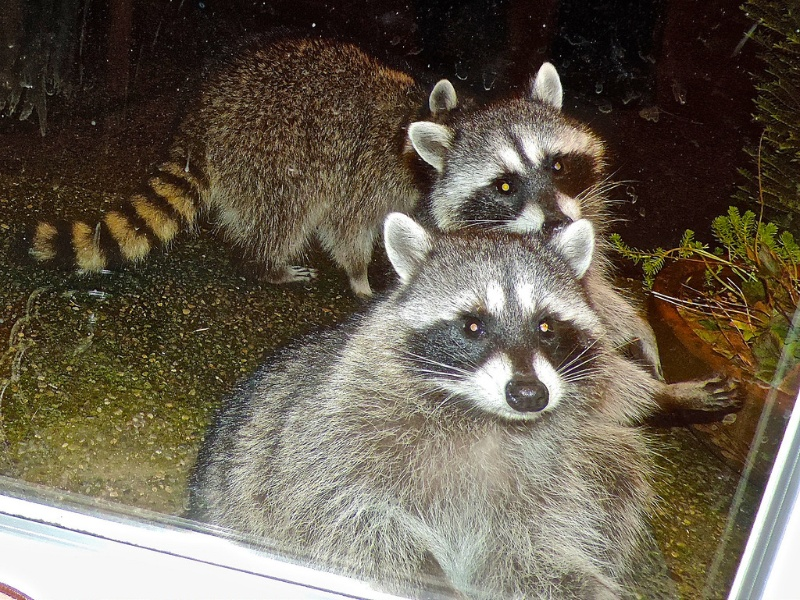raccoon: (184, 215, 660, 600), (18, 26, 629, 301)
